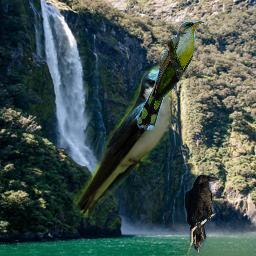Crow: (184, 174, 220, 255)
Cuckoo: (137, 21, 204, 130)
Swallow: (73, 66, 175, 221)
